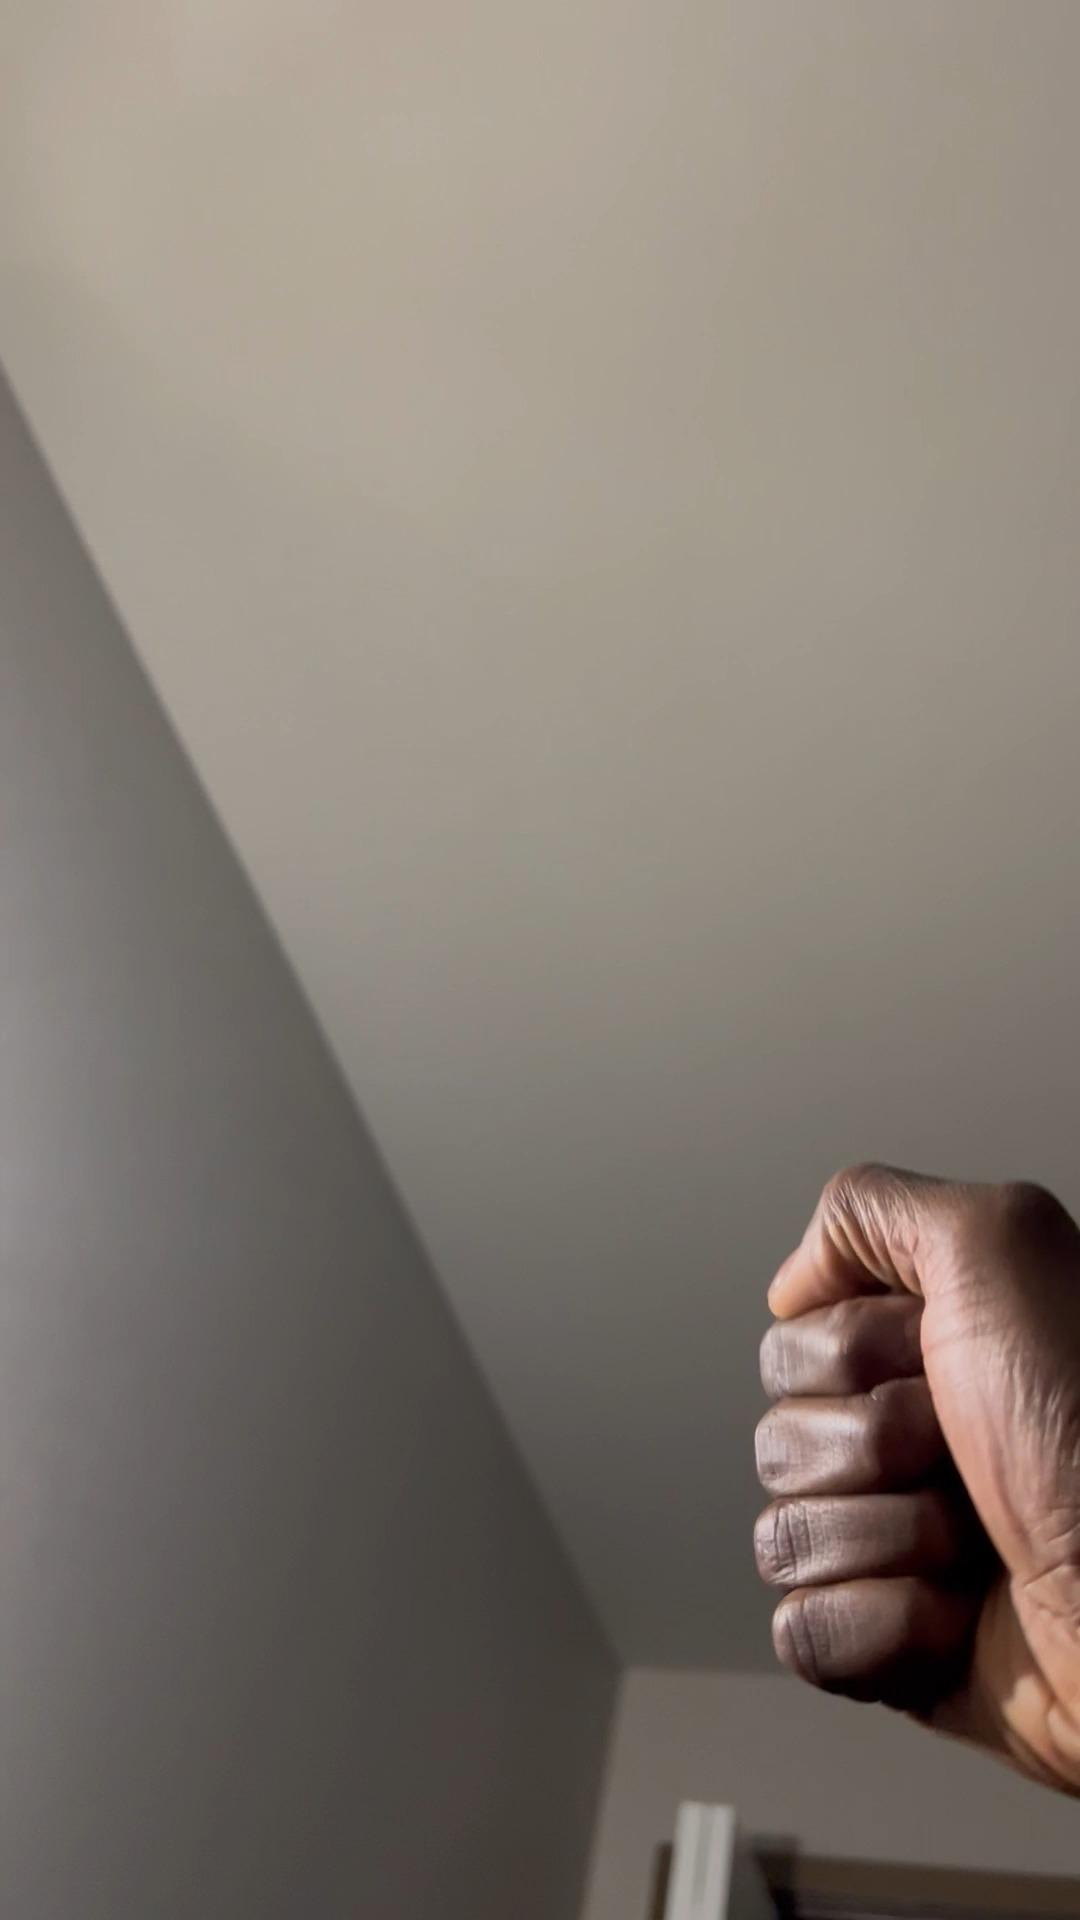Rock: (744, 1147, 1080, 1785)
